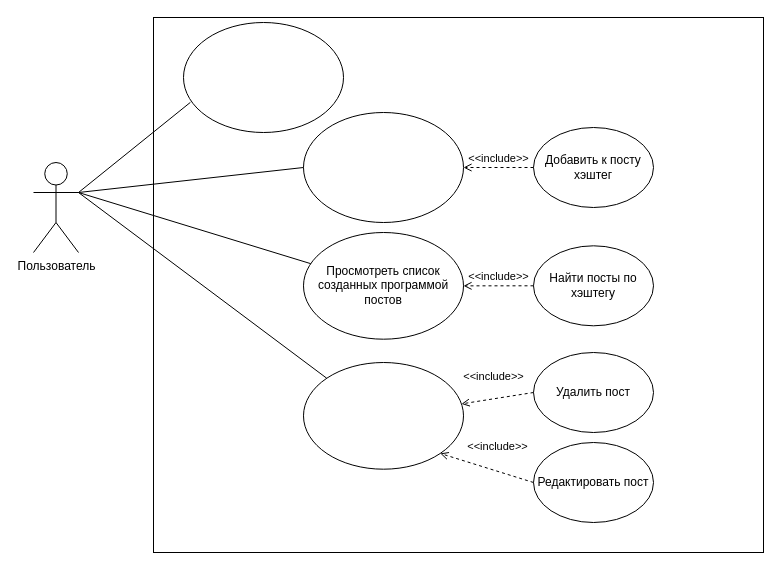
Image size: 781x570. Some labels were removed from this diagram. Each missing label, with the box of its shape:
Опубликовать пост с выбранными случайным текстом: (302, 112, 464, 222)
Просмотреть случайный текст со случайным изображением кота: (182, 22, 344, 132)
Редактировать список созданных программой постов: (302, 362, 464, 469)
